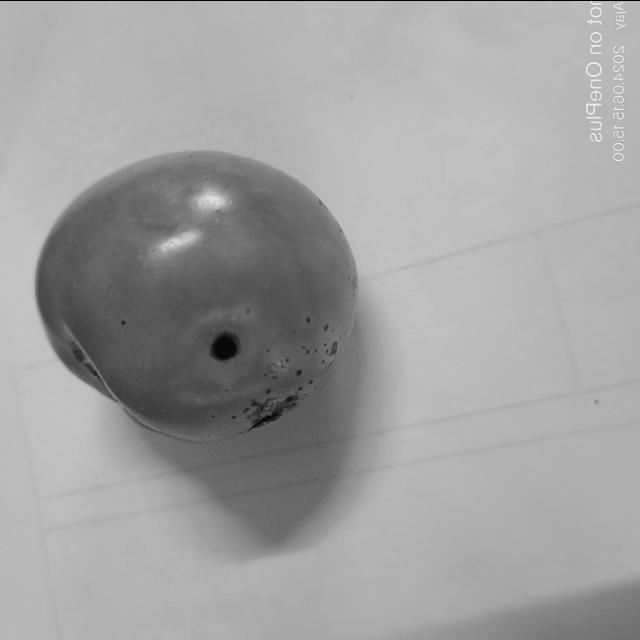fruitworm_bore: (205, 322, 247, 374)
